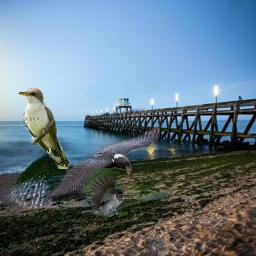Crow: (46, 127, 160, 198)
Cuckoo: (18, 87, 69, 169)
Swallow: (81, 170, 170, 217)
